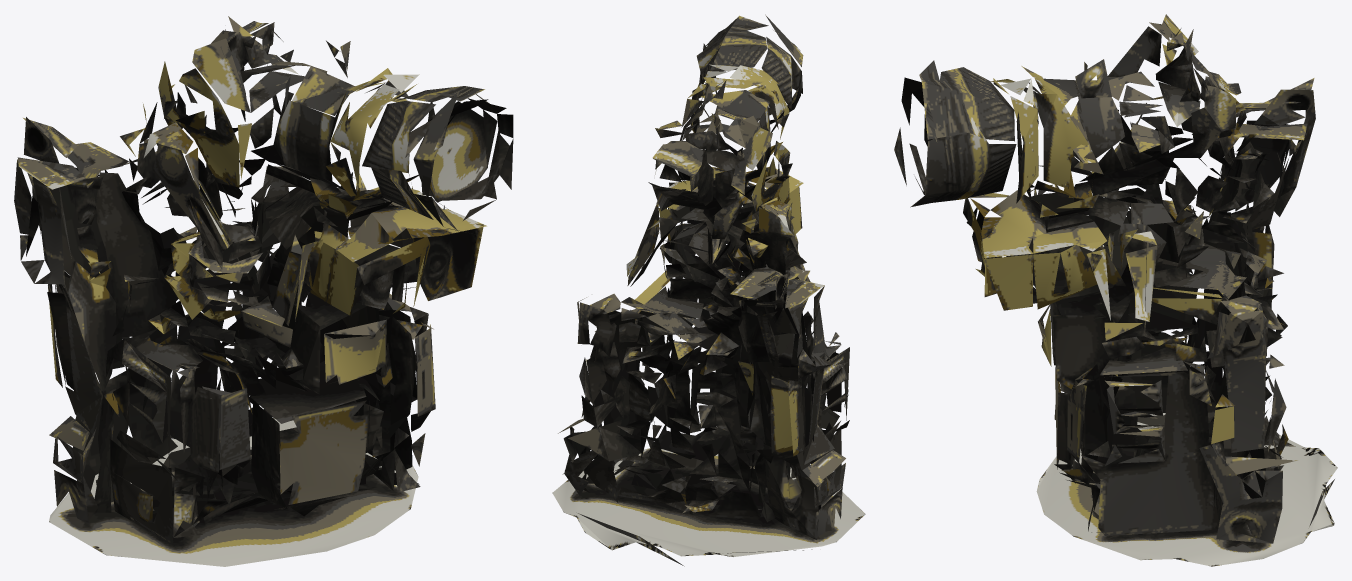
File: mo_targeting.glb
3 renders of one model, left to right at view 1: azimuth 30°, elevation 25°; view 2: azimuth 150°, elevation 25°; view 3: azimuth 270°, elevation 25°, orthographic. The views are drawn at different scales.
Parts seen in each view (by area): view 1: mo_targeting; view 2: mo_targeting; view 3: mo_targeting.
Part boxes in pixels (box(x1,y1,x2,y2)): mo_targeting: box(14, 16, 513, 566); mo_targeting: box(552, 14, 865, 566); mo_targeting: box(894, 14, 1337, 566).
Bounding box in the file's own units: 0.1449 × 0.2 × 0.1696.
1 material, 1 textured.
